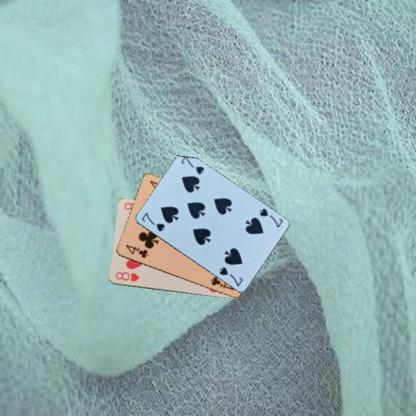4c: (123, 242, 149, 260)
7s: (138, 210, 166, 233), (256, 206, 284, 228)
8h: (113, 269, 140, 283)
